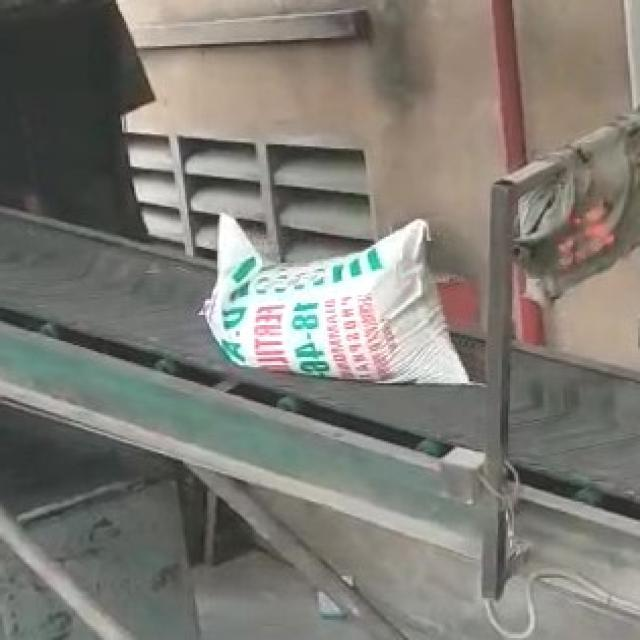gunny_bag: (203, 216, 467, 384)
